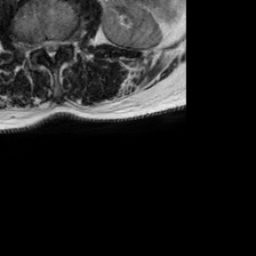CCS_normal: (47, 31, 54, 65)
LFS_stenosis: (61, 31, 69, 53)
LLS_stenosis: (54, 31, 61, 55)
RFS_stenosis: (33, 33, 41, 57)
RLS_stenosis: (41, 31, 47, 57)
